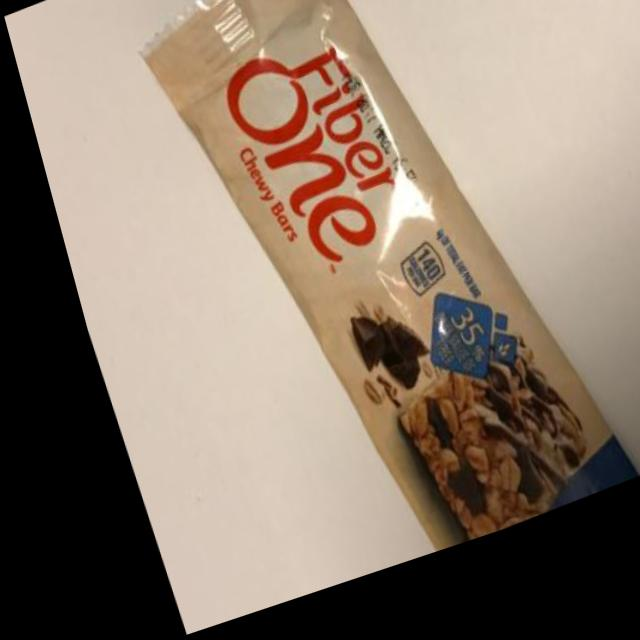trash: (89, 0, 640, 616)
